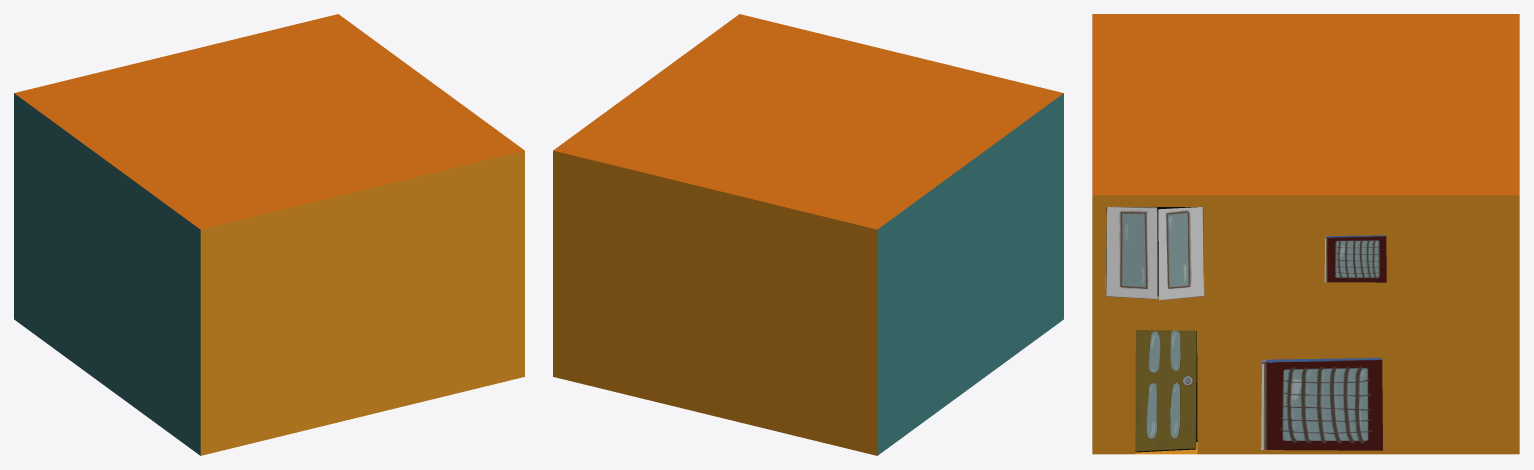
File: huis.fbx
3 renders of one model, left to right at view 1: azimuth 30°, elevation 25°; view 2: azimuth 150°, elevation 25°; view 3: azimuth 270°, elevation 25°, orthographic. The views are drawn at different scales.
Visible parts, largest first — view 1: Cube; view 2: Cube; view 3: Cube.
Part boxes in pixels (left/top/right/bottom): Cube: left=14, top=14, right=524, bottom=455; Cube: left=553, top=14, right=1063, bottom=455; Cube: left=1092, top=14, right=1519, bottom=454.
Bounding box in the file's own units: 306 × 204 × 299.
Materials: 5 (5 with a texture image).
